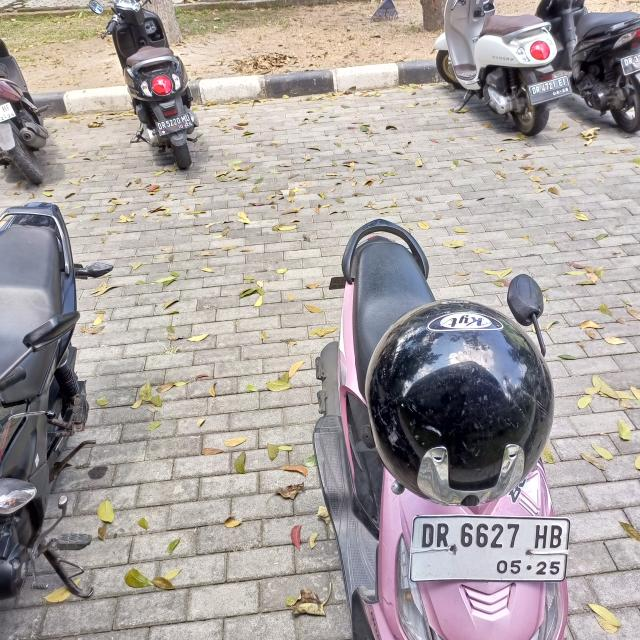plate: (410, 515, 570, 584), (528, 74, 573, 108), (155, 113, 194, 137)
